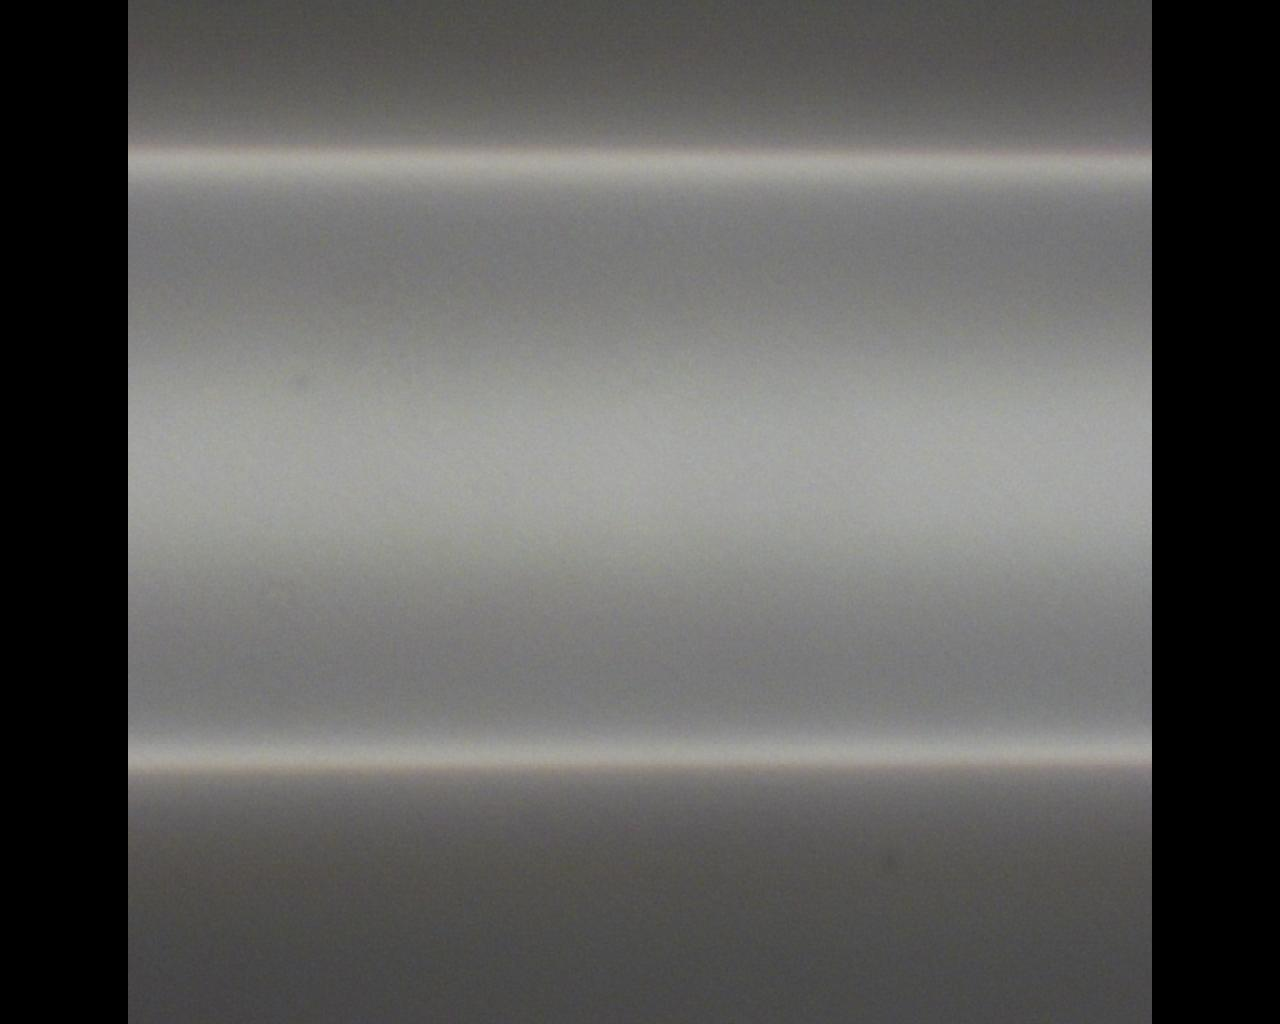fiber: (603, 606, 775, 1024)
